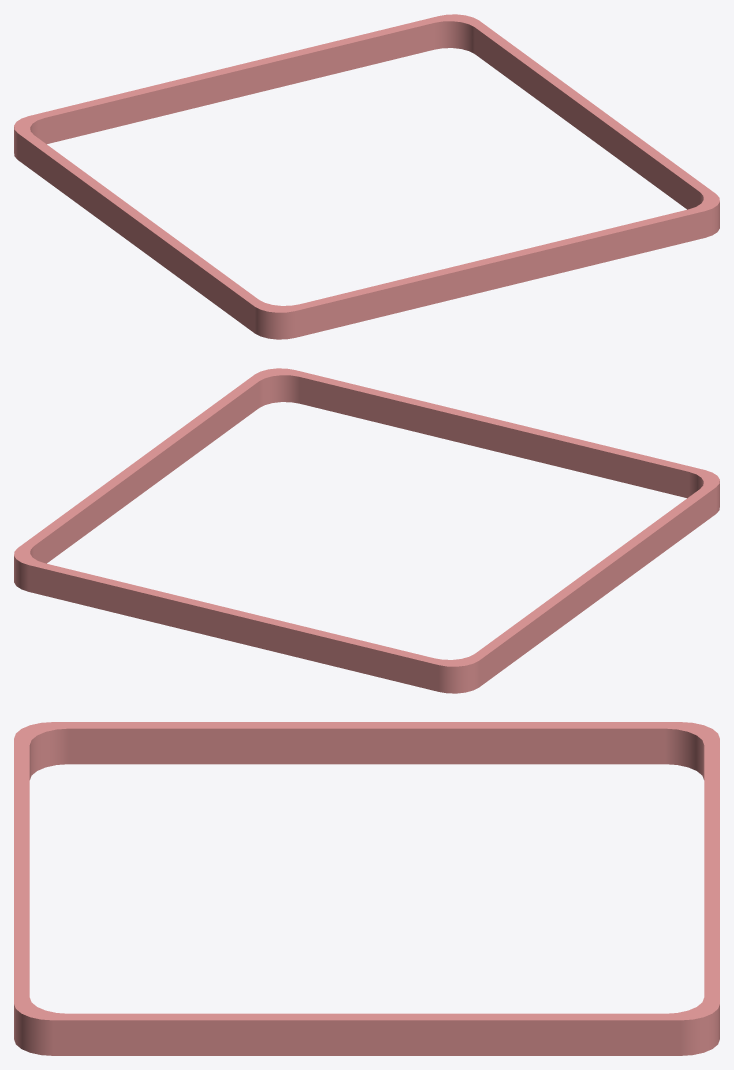
File: Flexy_O.gltf
The picture shows the model from 3 angles, top to bottom: view 1: azimuth 30°, elevation 25°; view 2: azimuth 150°, elevation 25°; view 3: azimuth 270°, elevation 25°; orthographic projection. The views are drawn at different scales.
Size of the model in its own units: 1.8 by 0.1 by 1.8.
